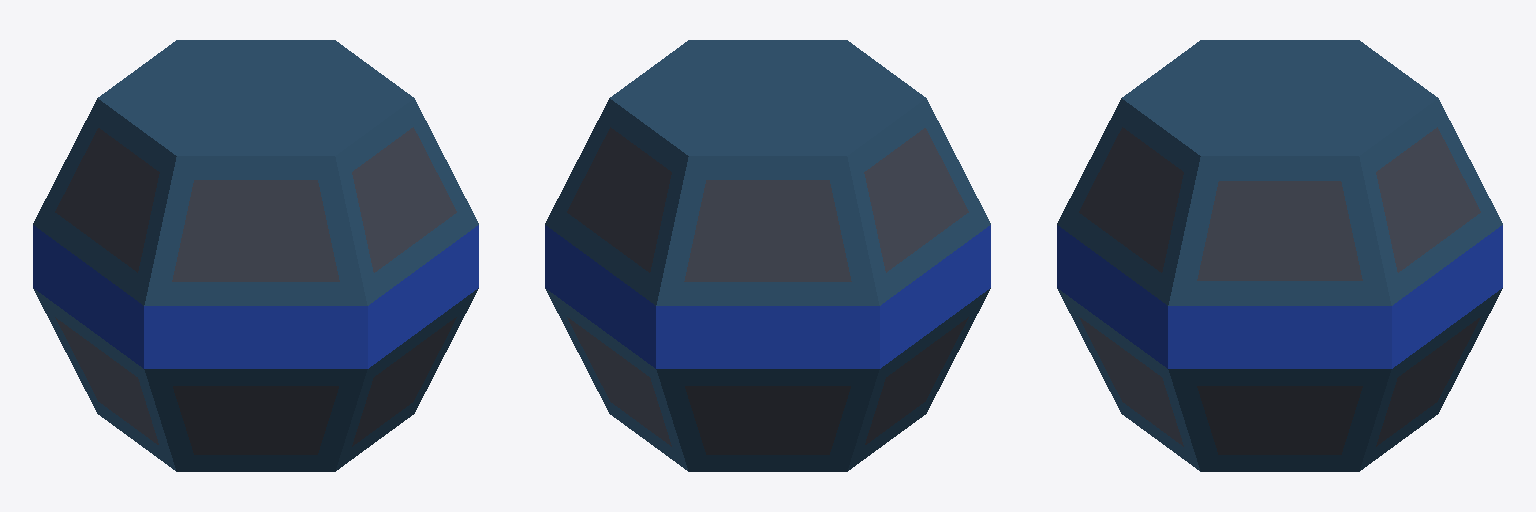
File: ship.obj
3 views of the same model, side by side, from view 1: azimuth 30°, elevation 25°; view 2: azimuth 150°, elevation 25°; view 3: azimuth 270°, elevation 25° (orthographic).
Parts seen in each view (by area): view 1: glass_ufo%_0, glass_ufo%_1; view 2: glass_ufo%_0, glass_ufo%_1; view 3: glass_ufo%_0, glass_ufo%_1.
Part boxes in pixels (x1,y1,x2,y2): glass_ufo%_0: (33,40,478,337); glass_ufo%_1: (33,257,478,471); glass_ufo%_0: (545,40,990,337); glass_ufo%_1: (545,257,990,471); glass_ufo%_0: (1057,40,1502,337); glass_ufo%_1: (1057,257,1502,471).
Size of the model in its own units: 0.866 by 0.78 by 1.